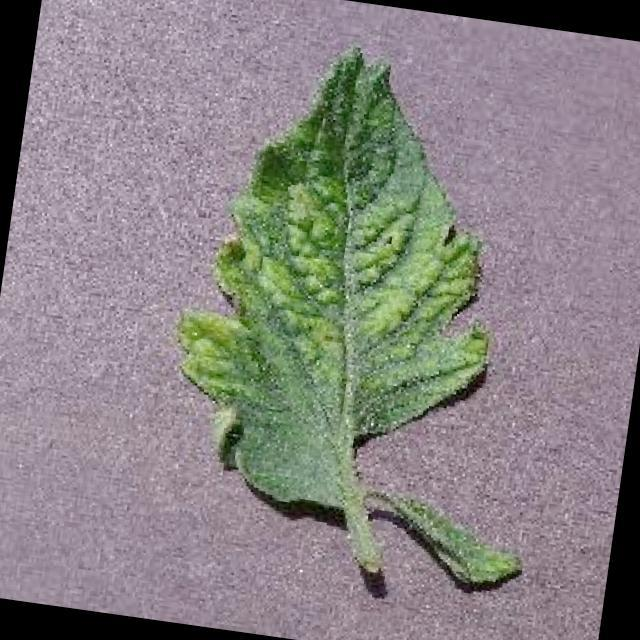Tomato mosaic virus leaf: (142, 21, 538, 528), (373, 490, 542, 600)
